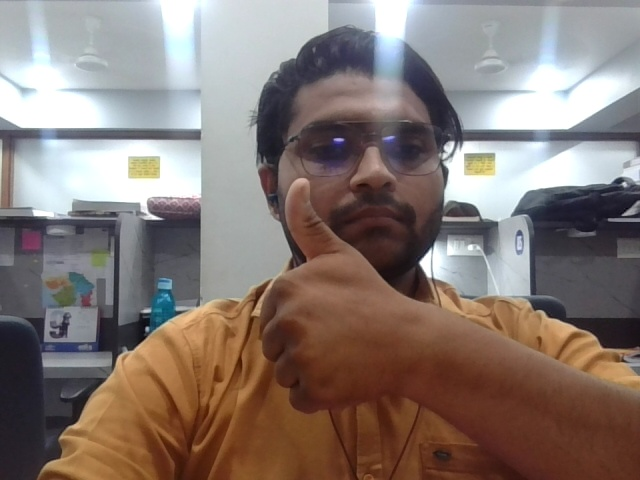ThumbsUp: (259, 174, 382, 422)
